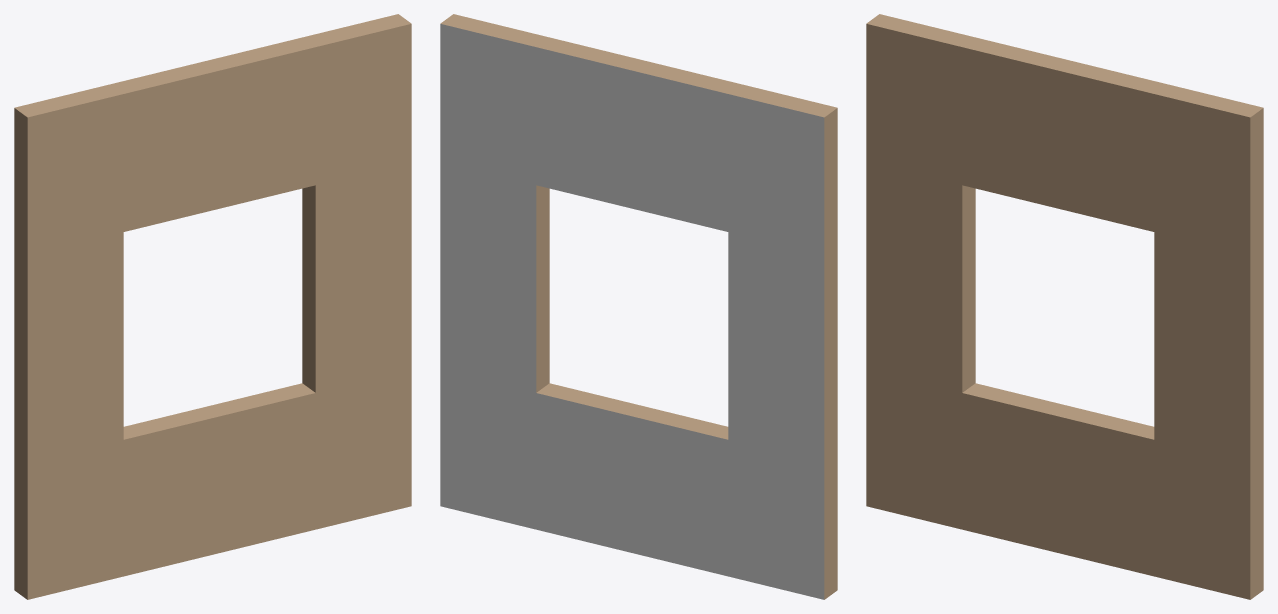
The model's file is Wall1_C2_04.fbx.
3 renders of one model, left to right at view 1: azimuth 30°, elevation 25°; view 2: azimuth 150°, elevation 25°; view 3: azimuth 330°, elevation 25°, orthographic.
Visible parts, largest first — view 1: Wall1_C2_04; view 2: Wall1_C2_04; view 3: Wall1_C2_04.
Part boxes in pixels (x1,y1,x2,y2): Wall1_C2_04: (14,14,411,599); Wall1_C2_04: (440,14,837,599); Wall1_C2_04: (866,14,1263,599).
Size of the model in its own units: 250 by 300 by 15.
